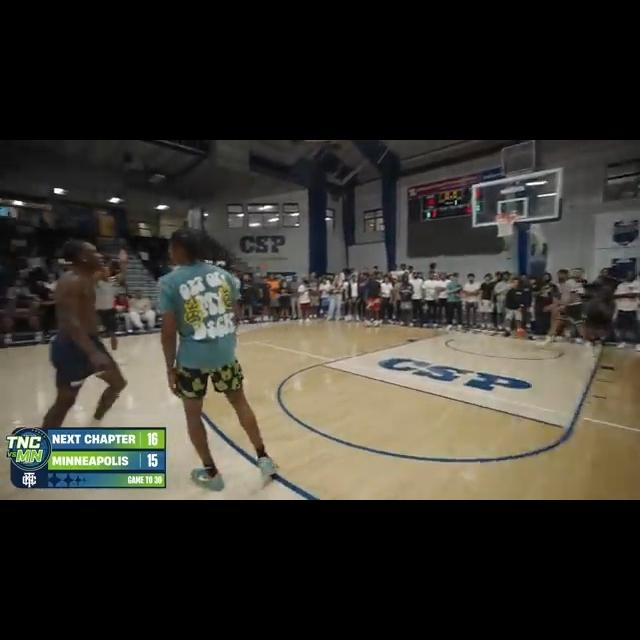hoop: (495, 213, 517, 237)
